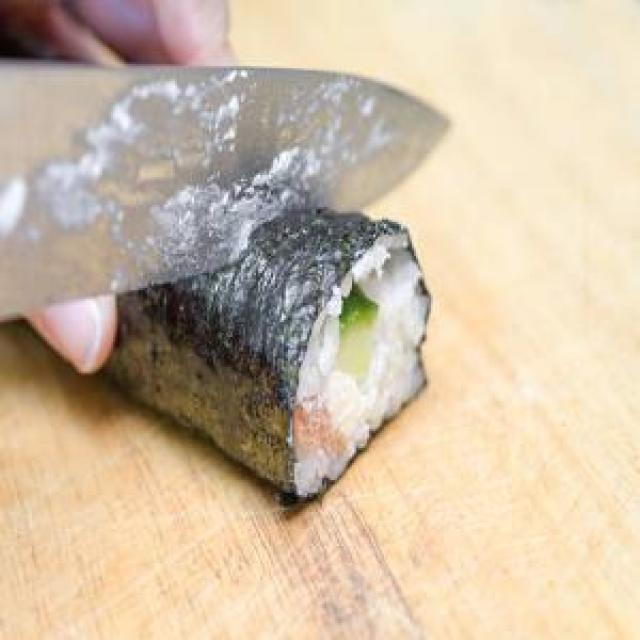knife: (0, 66, 454, 328)
